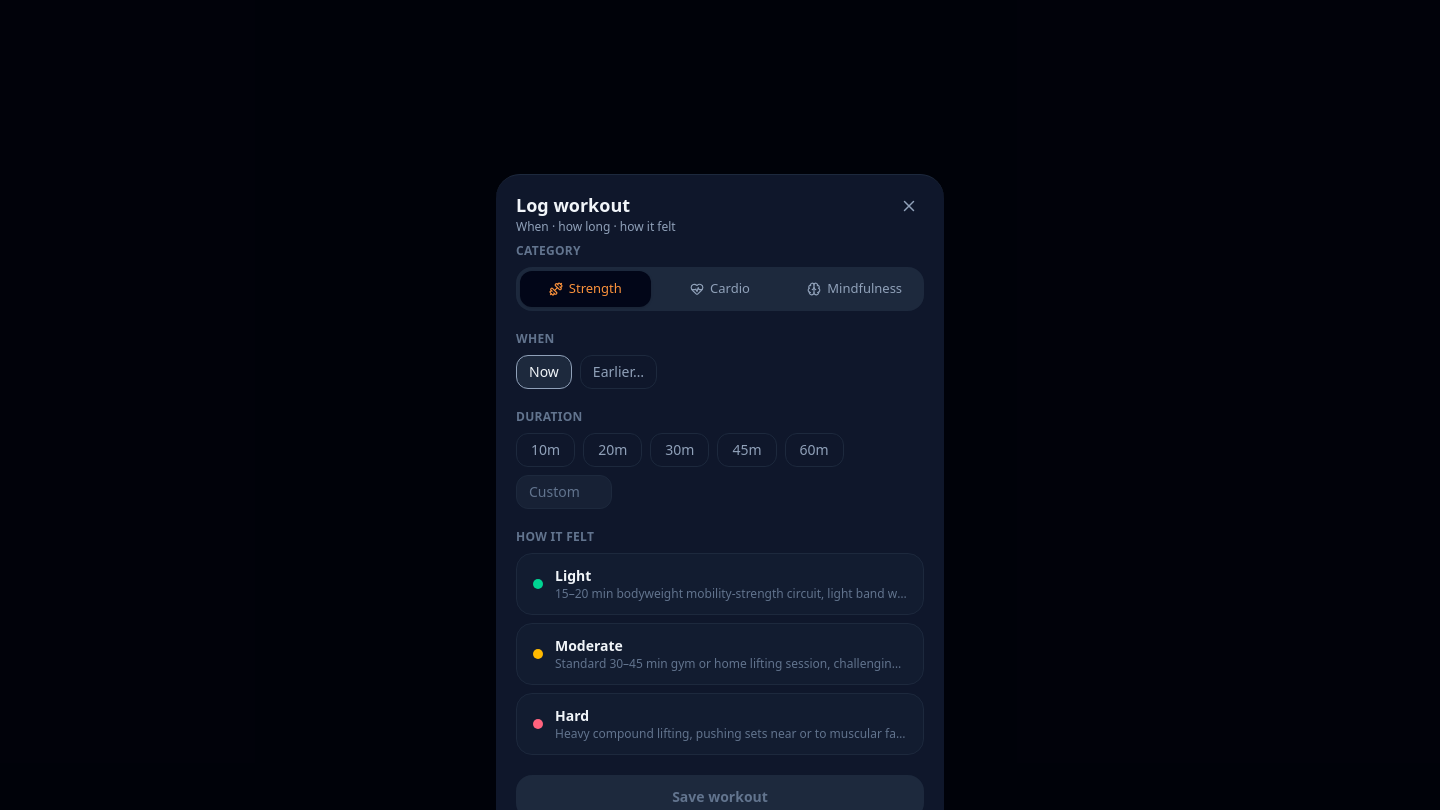
Test: LogWorkoutSheet › requires a duration and difficulty before submit
Expected: the button "Save workout" is disabled, [516, 774, 924, 809]
Click the button "Moderate".
click(720, 654)  # box [516, 622, 924, 684]
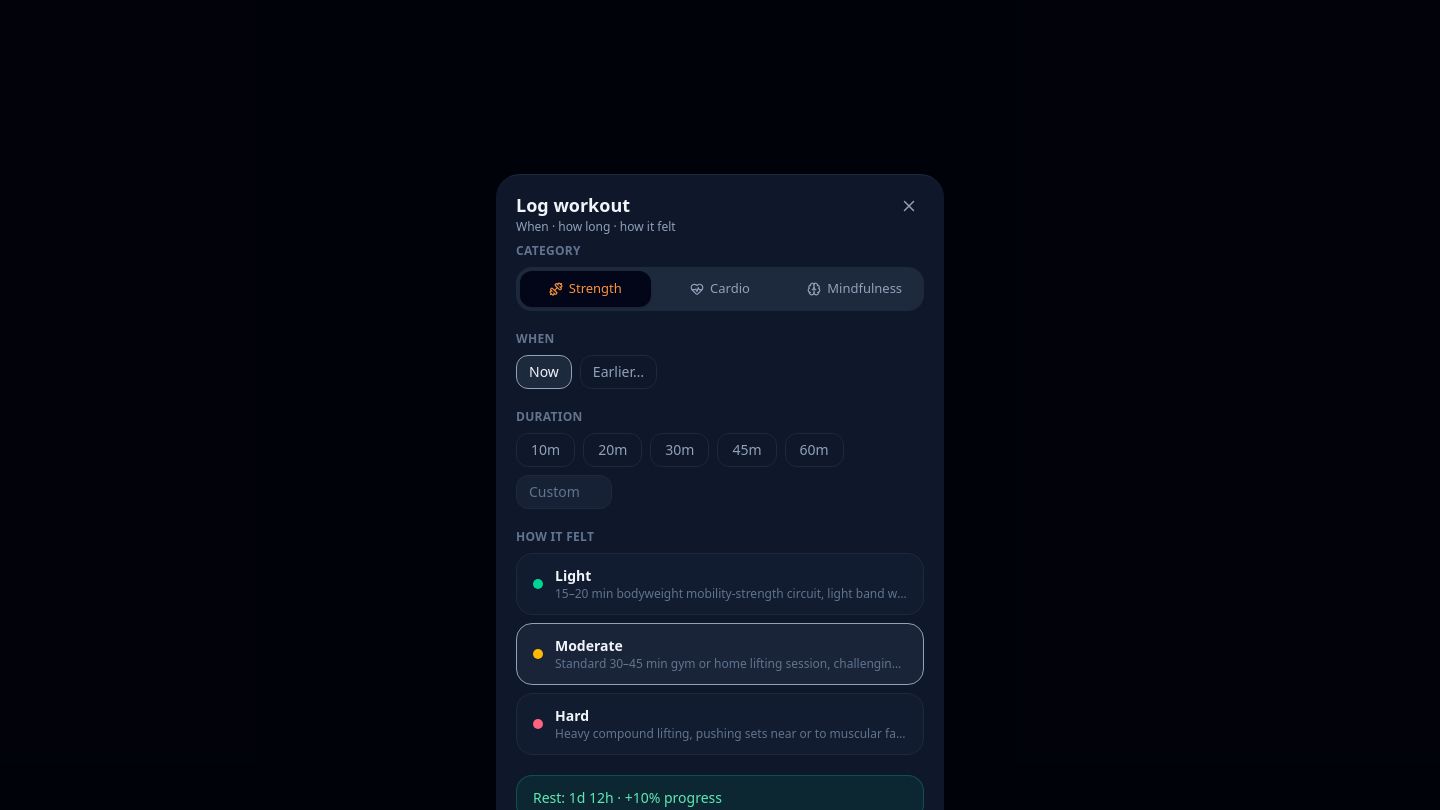
Click the button "30m".
click(680, 450)  # box [650, 432, 709, 466]
(page scrolled)
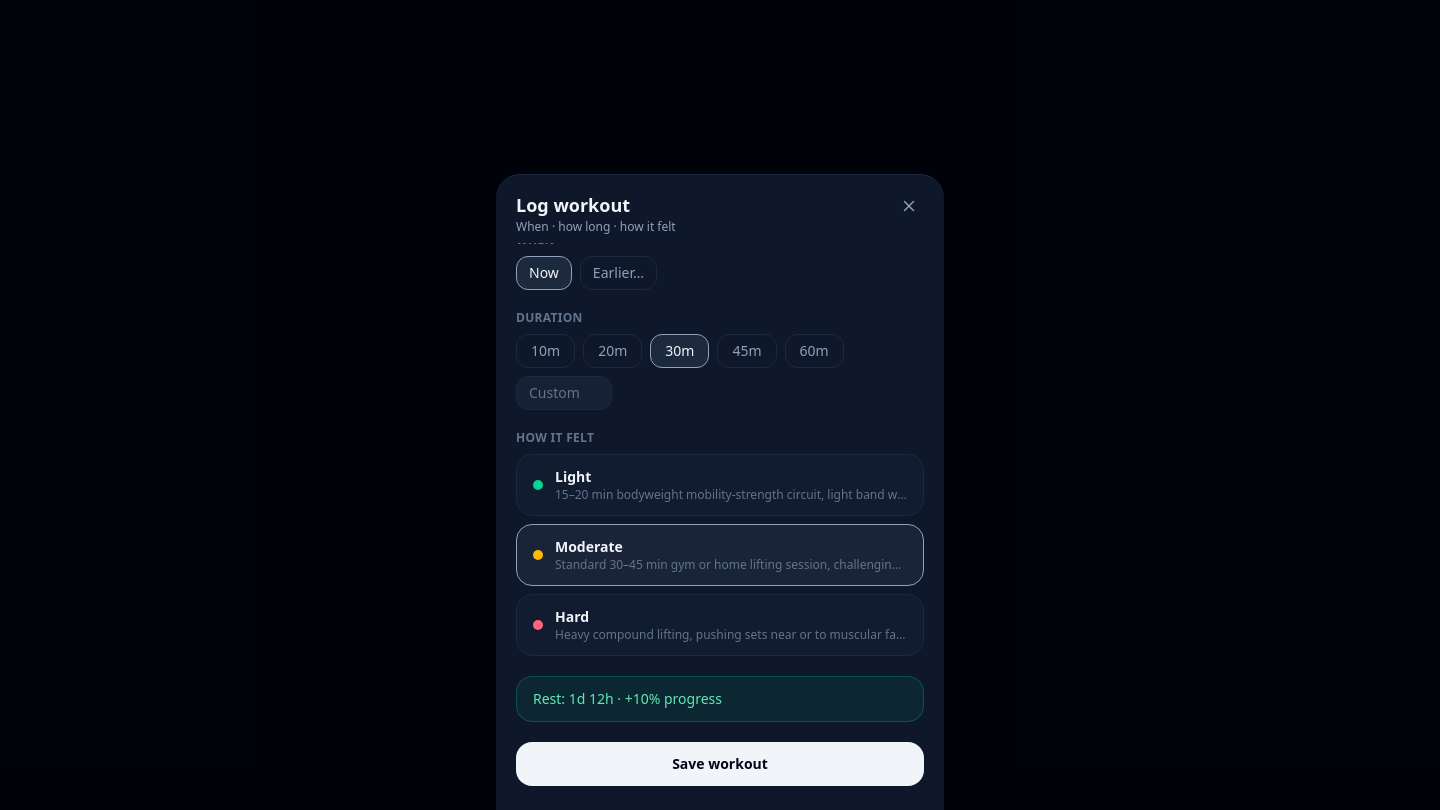
Expected: the button "Save workout" is enabled, [516, 742, 924, 786]
